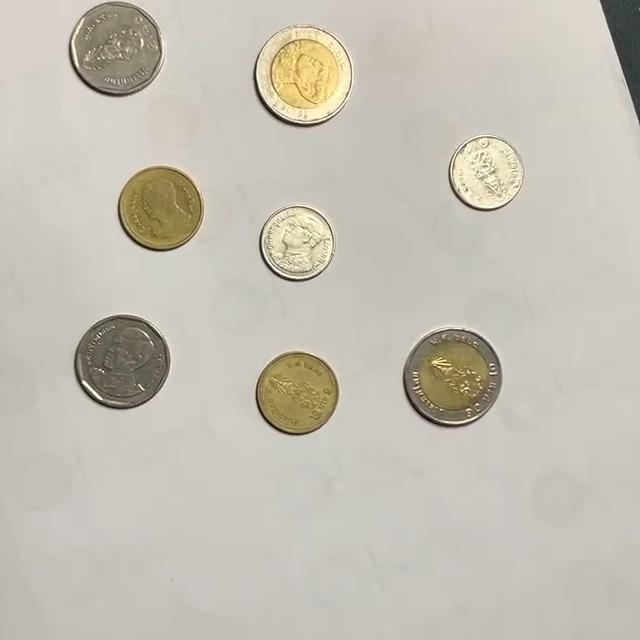1-baht: (259, 204, 336, 282), (448, 134, 527, 210)
10-baht: (253, 25, 354, 126), (403, 327, 504, 426)
2-baht: (118, 165, 204, 250), (256, 351, 340, 434)
5-baht: (68, 1, 166, 97), (74, 314, 171, 409)
